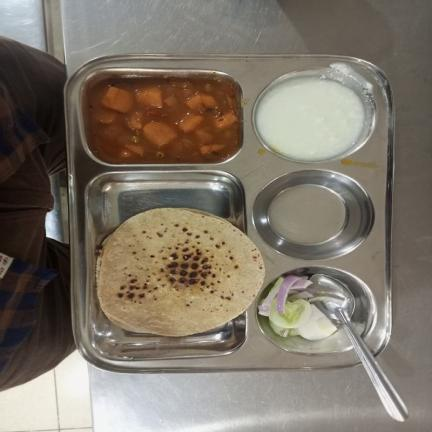Aalu Ki Sabji: (89, 76, 241, 166)
Dahi: (254, 77, 367, 159)
Plate: (64, 54, 394, 373)
Roti: (96, 206, 266, 336)
Salad: (256, 273, 342, 342)
